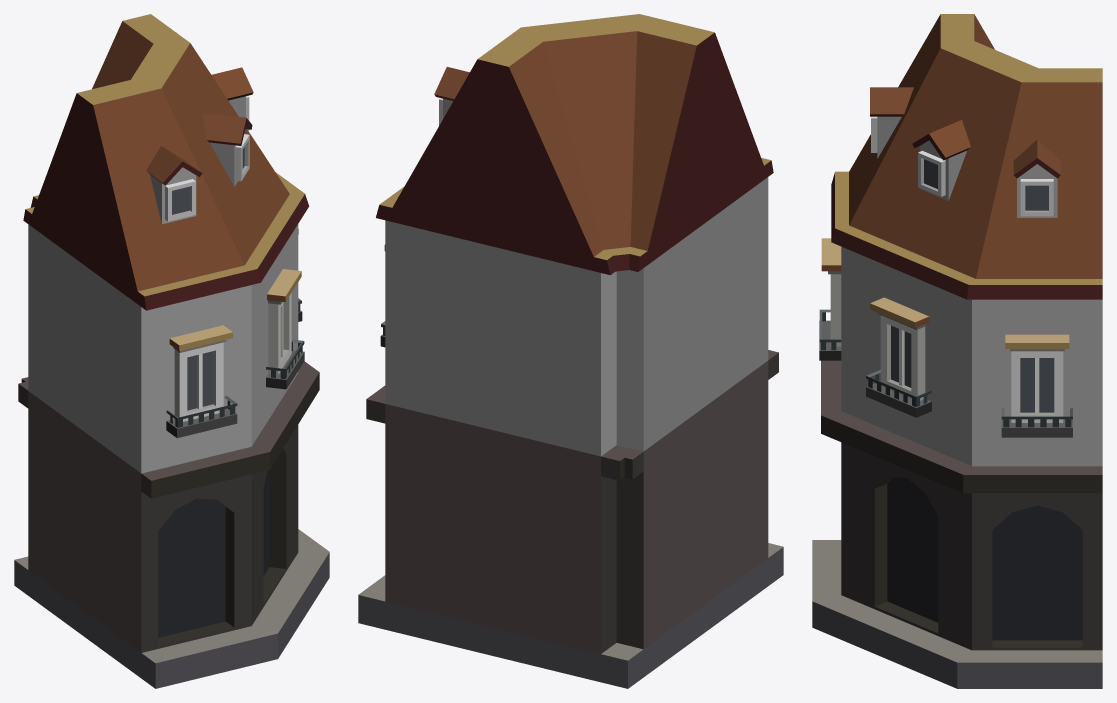
Rendered from TB_CITY_BD_N_RCorner_2_C.FBX.
3 renders of one model, left to right at view 1: azimuth 30°, elevation 25°; view 2: azimuth 150°, elevation 25°; view 3: azimuth 270°, elevation 25°, orthographic. The views are drawn at different scales.
Parts seen in each view (by area): view 1: TB_CITY_BD_N_RCorner_2_C; view 2: TB_CITY_BD_N_RCorner_2_C; view 3: TB_CITY_BD_N_RCorner_2_C.
Part boxes in pixels (x1=…): TB_CITY_BD_N_RCorner_2_C: x1=14, y1=14, x2=329, y2=688; TB_CITY_BD_N_RCorner_2_C: x1=358, y1=14, x2=783, y2=688; TB_CITY_BD_N_RCorner_2_C: x1=812, y1=14, x2=1102, y2=688.
Bounding box in the file's own units: 7.99 × 16.78 × 7.99.
